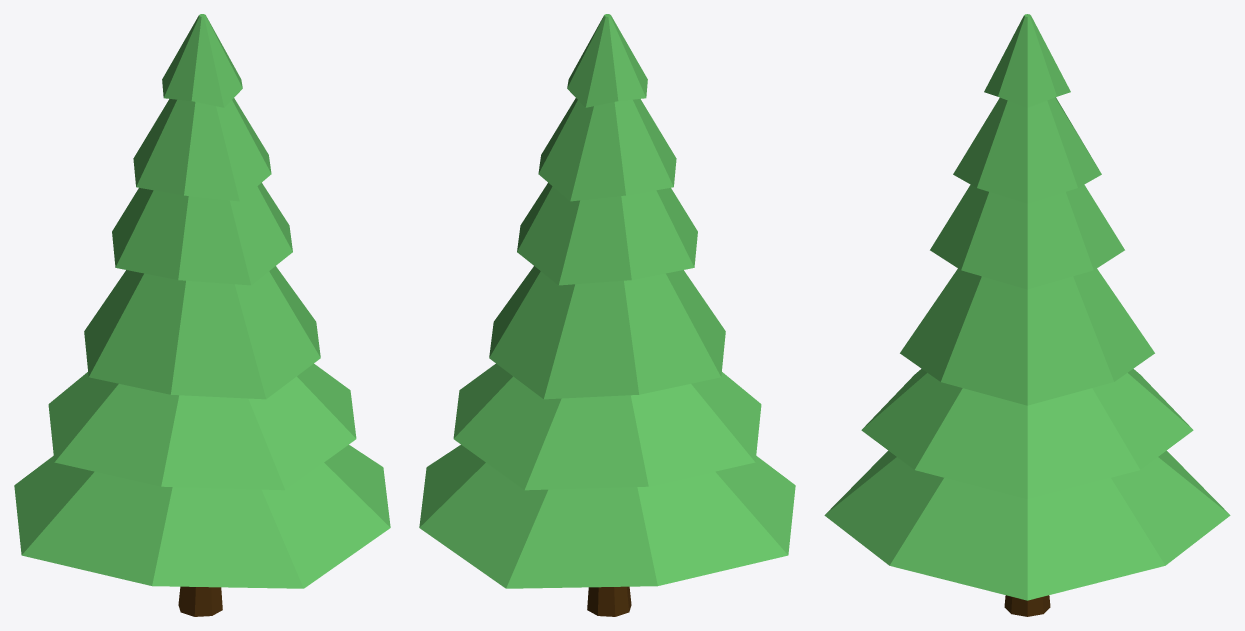
File: Pine_tree_noSnow.fbx
The picture shows the model from 3 angles, left to right: view 1: azimuth 30°, elevation 25°; view 2: azimuth 150°, elevation 25°; view 3: azimuth 270°, elevation 25°; orthographic projection.
Visible parts, largest first — view 1: Pinetree; view 2: Pinetree; view 3: Pinetree.
Boxes of the visible parts, x1,y1,x2,y2 form: Pinetree: [14, 14, 390, 616]; Pinetree: [419, 14, 795, 616]; Pinetree: [824, 14, 1230, 616].
Bounding box in the file's own units: 3.75 × 5.86 × 3.64.
